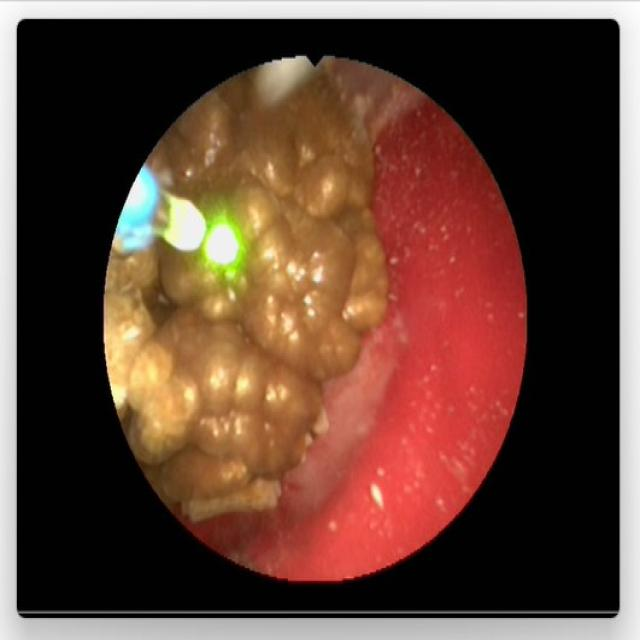fiber: (119, 169, 156, 249)
stone: (113, 71, 382, 513)
